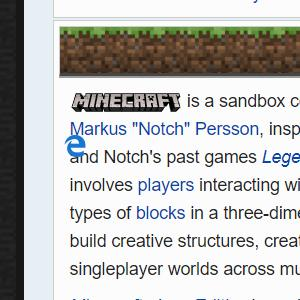edge: (64, 135, 85, 157)
